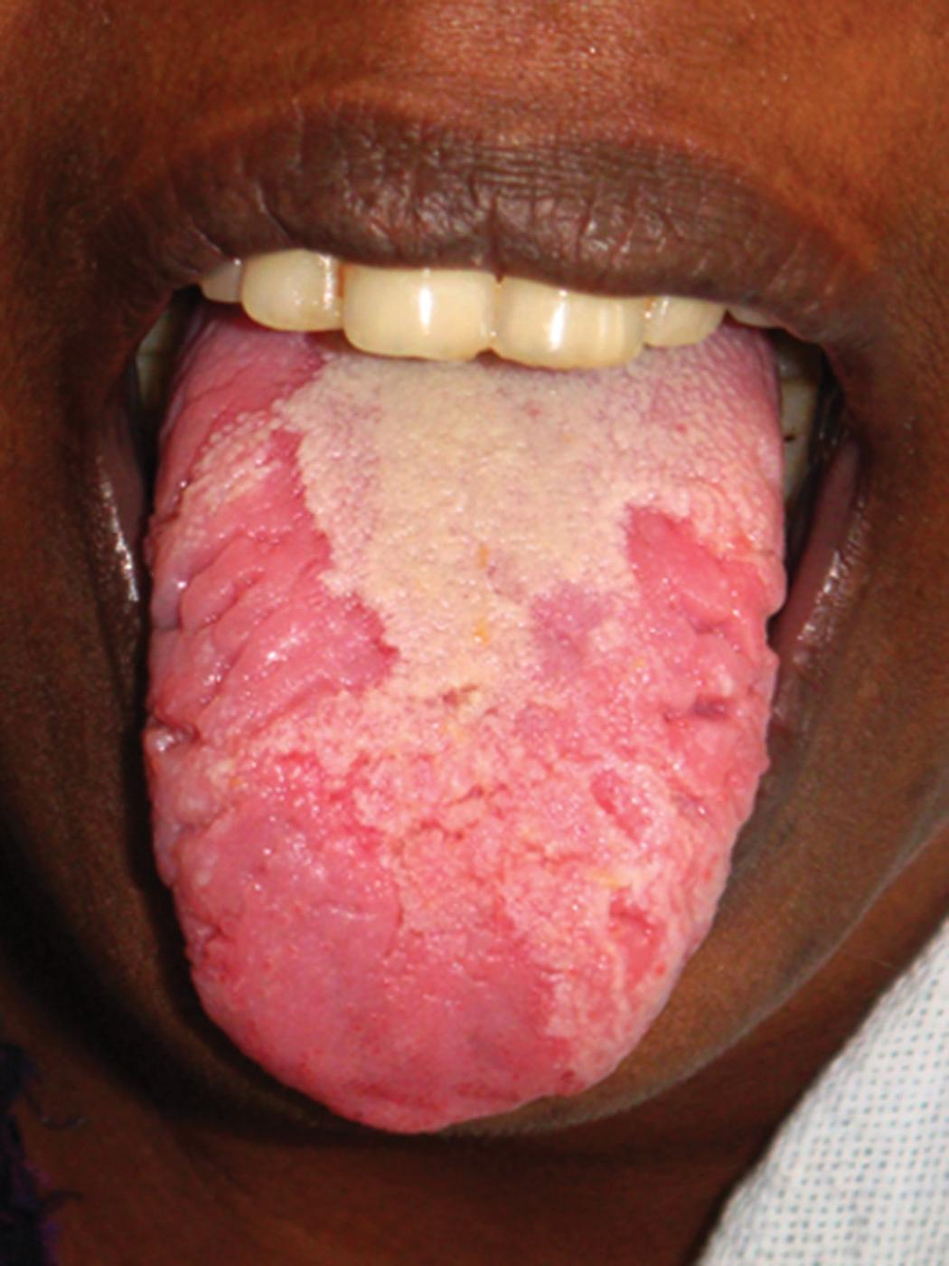baitaishe: (140, 364, 785, 1134)
botaishe: (207, 416, 409, 747), (510, 488, 747, 747)
liewenshe: (140, 525, 268, 778), (646, 579, 781, 771)
